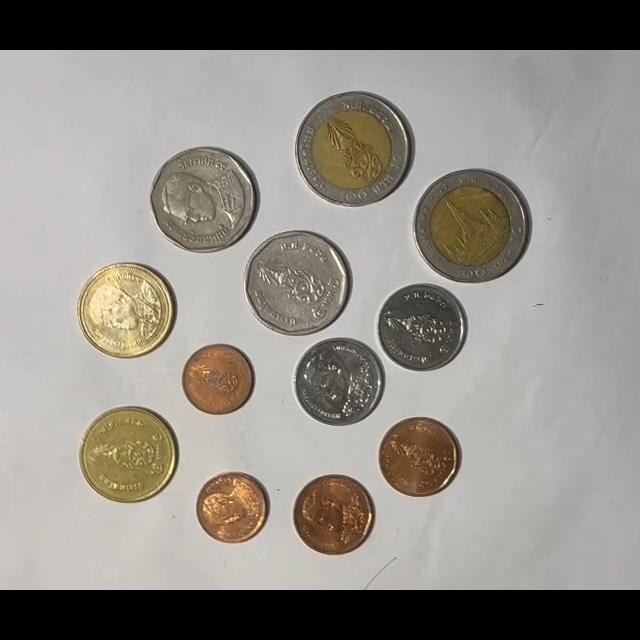1-baht: (293, 337, 384, 427), (376, 283, 467, 372)
10-baht: (295, 91, 413, 208), (414, 169, 530, 284)
2-baht: (79, 406, 178, 503), (77, 263, 173, 359)
25-satang: (195, 472, 269, 545), (182, 344, 254, 415)
5-baht: (150, 147, 258, 254), (244, 229, 351, 337)
50-satang: (293, 474, 375, 555), (379, 417, 461, 497)
